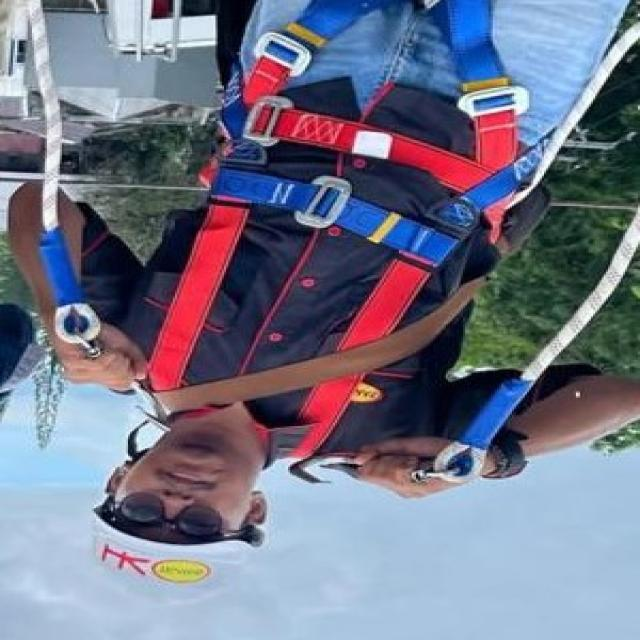safetyhelmet: (80, 486, 278, 604)
